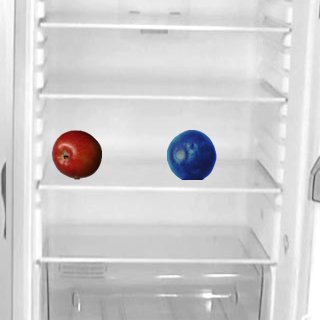Apple Braeburn: (51, 129, 101, 179)
Huckleberry: (166, 129, 216, 179)
